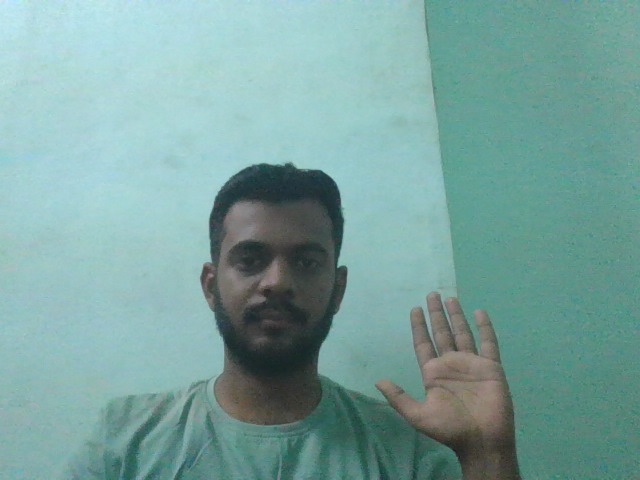hello: (362, 288, 527, 460)
